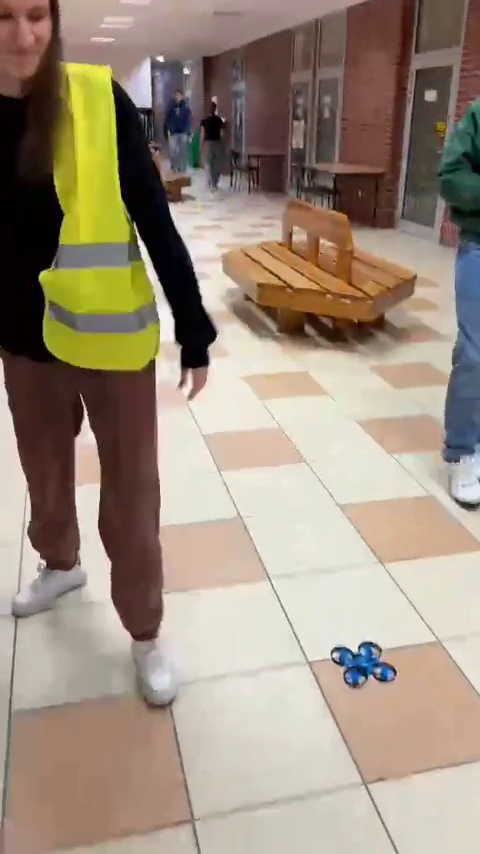drone: (331, 646, 393, 686)
no vest: (200, 88, 234, 193), (168, 88, 197, 175)
vest: (0, 9, 186, 662)
